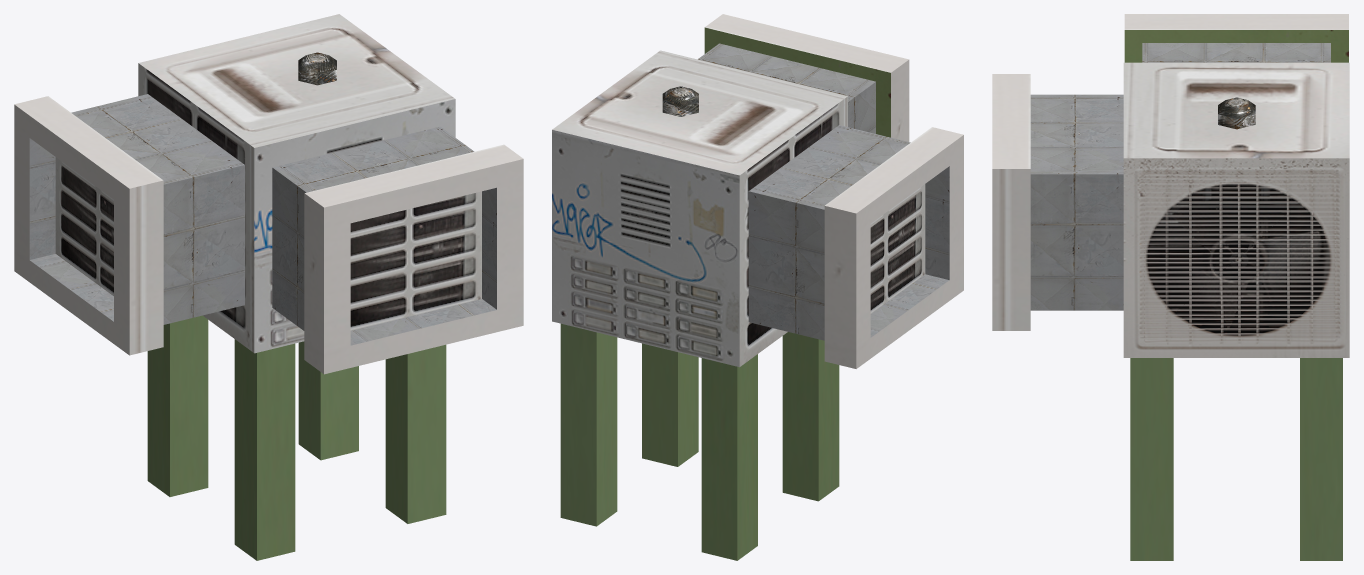
The model's file is fabx.fbx.
3 renders of one model, left to right at view 1: azimuth 30°, elevation 25°; view 2: azimuth 150°, elevation 25°; view 3: azimuth 270°, elevation 25°, orthographic. The views are drawn at different scales.
Parts seen in each view (by area): view 1: body, vent2, vent1, light; view 2: body, vent1, vent2, light; view 3: body, vent2, vent1, light.
Part boxes in pixels (bbox=[...]): body: bbox=[138, 14, 455, 560]; vent2: bbox=[272, 126, 523, 374]; vent1: bbox=[14, 94, 244, 355]; light: bbox=[298, 52, 336, 85]; body: bbox=[552, 50, 847, 560]; vent1: bbox=[748, 125, 963, 368]; vent2: bbox=[698, 14, 909, 141]; light: bbox=[662, 86, 698, 116]; body: bbox=[1123, 62, 1349, 560]; vent2: bbox=[992, 74, 1123, 330]; vent1: bbox=[1124, 14, 1348, 62]; light: bbox=[1218, 97, 1255, 129].
Size of the model in its own units: 2.75 by 3.51 by 2.69.
